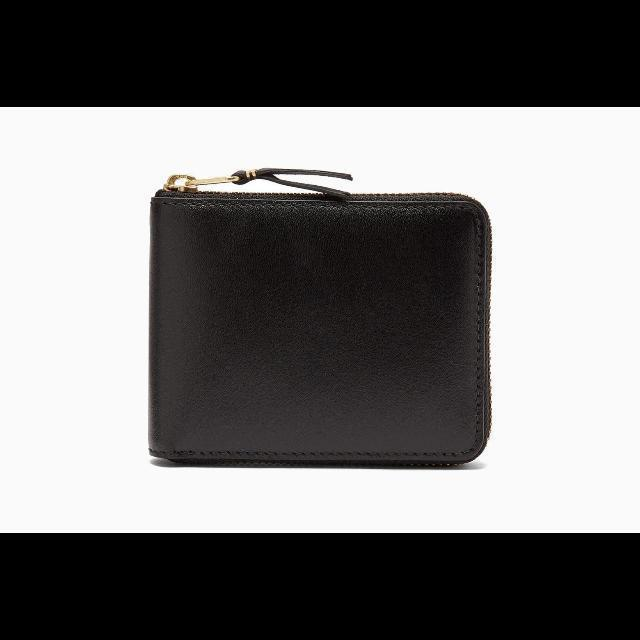wallet: (146, 184, 492, 472)
